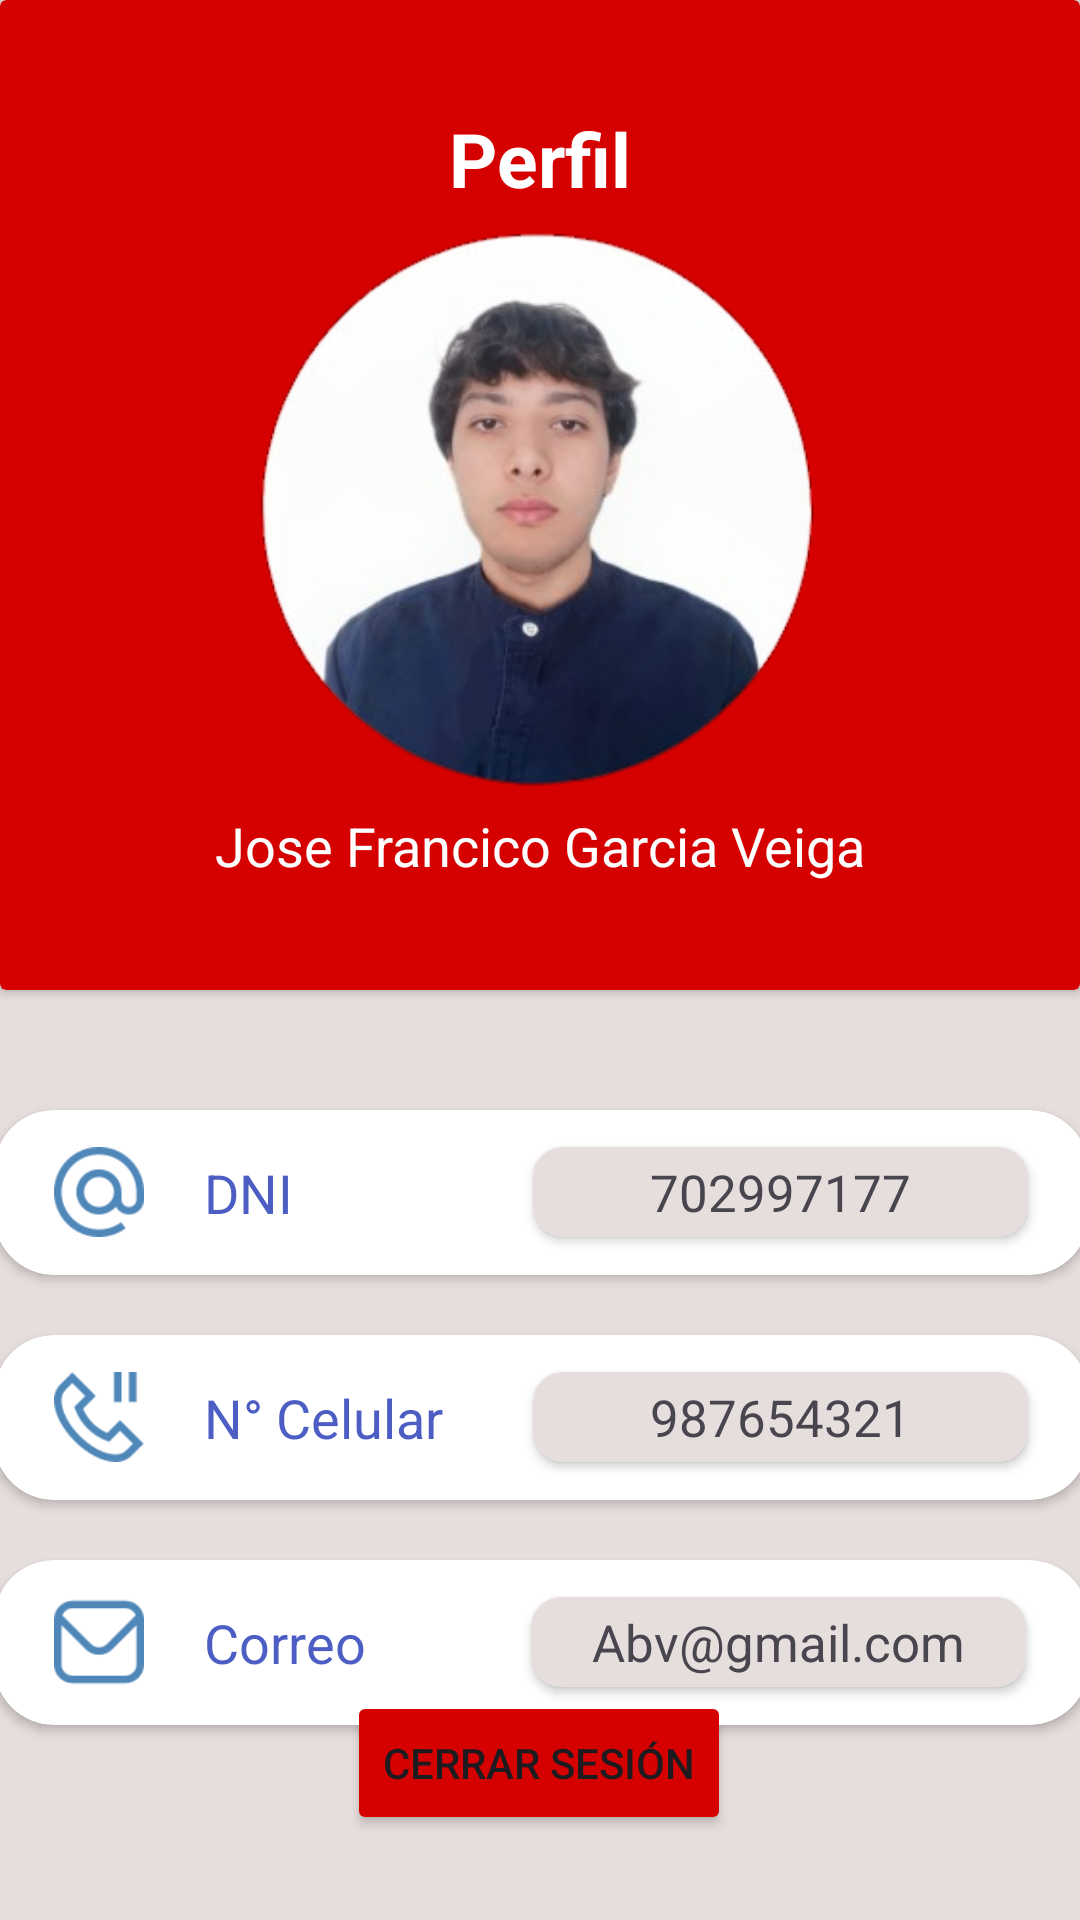

Locate icon controls on the screen. Image size 1080px x 1920px, boxes as bbox=[x1, y1, x2, y2].
telefono: bbox=[54, 1372, 144, 1462]
